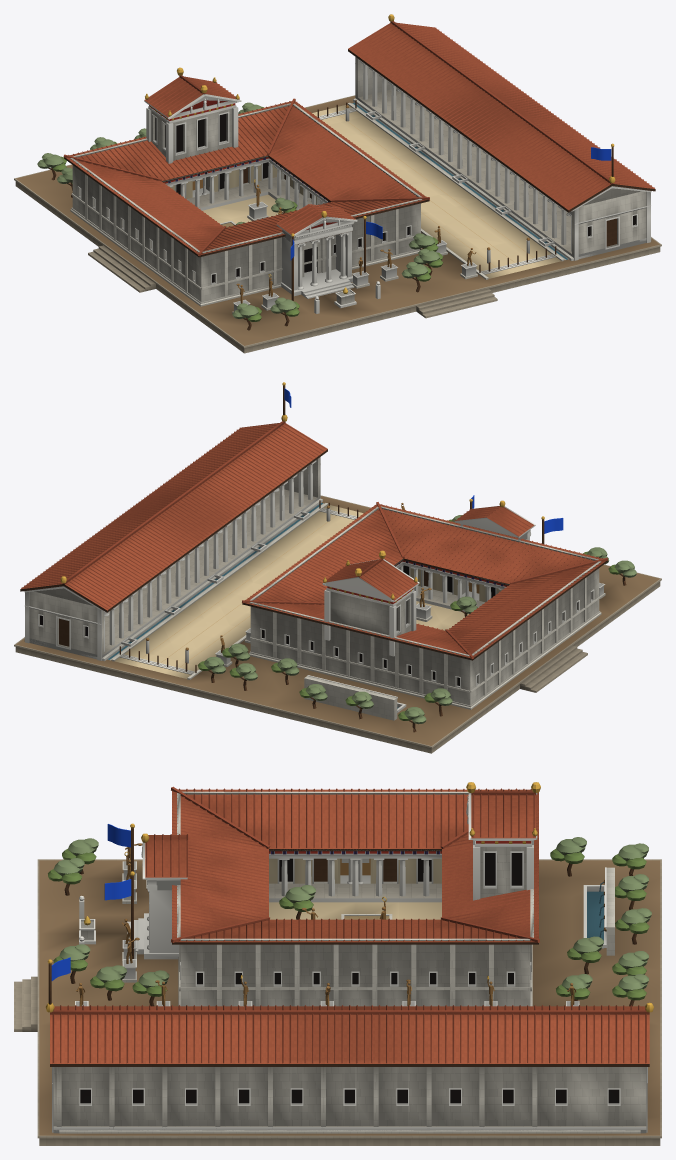
The model's file is lm_gymnasion.glb.
3 renders of one model, top to bottom at view 1: azimuth 30°, elevation 25°; view 2: azimuth 150°, elevation 25°; view 3: azimuth 270°, elevation 25°, orthographic. The views are drawn at different scales.
Visible parts, largest first — view 1: lm_gymnasion; view 2: lm_gymnasion; view 3: lm_gymnasion.
Boxes of the visible parts, x1,y1,x2,y2 form: lm_gymnasion: [14, 14, 661, 353]; lm_gymnasion: [14, 382, 661, 753]; lm_gymnasion: [14, 782, 661, 1145].
Size of the model in its own units: 2.41 by 0.6515 by 2.3.
1 material, 1 textured.
